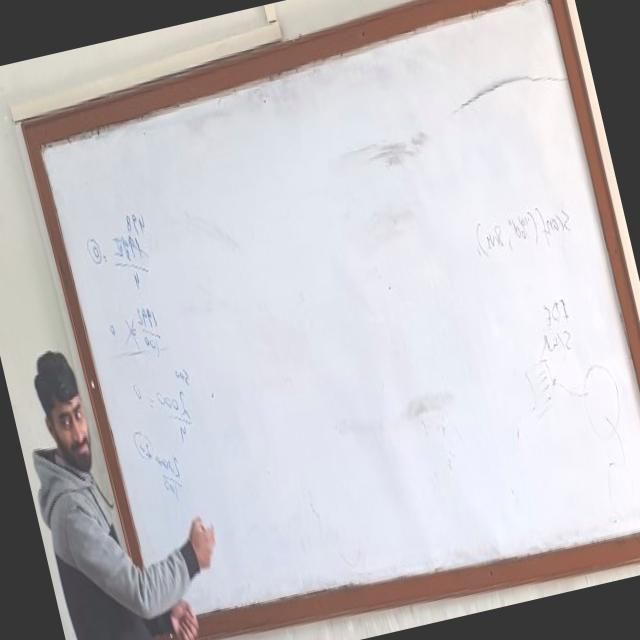Instructor: (1, 327, 175, 640)
White-board: (31, 0, 640, 639)
